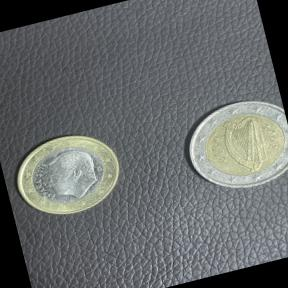coin: (2, 120, 131, 232), (169, 87, 288, 206)
